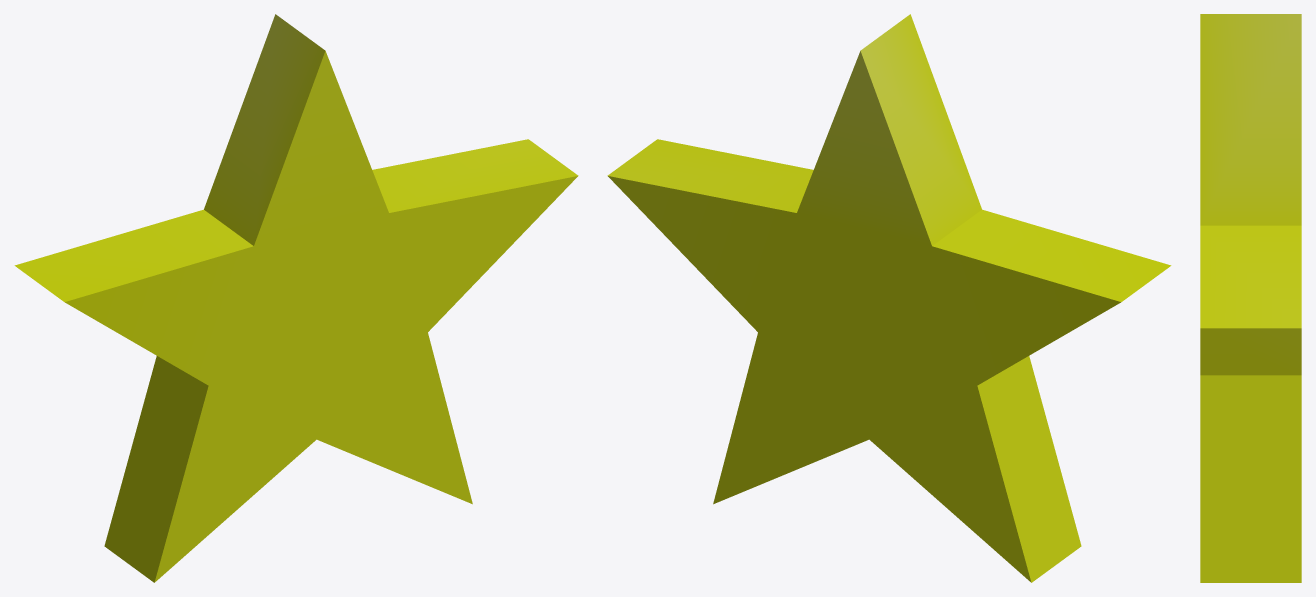
File: star.dae
3 views of the same model, side by side, from view 1: azimuth 30°, elevation 25°; view 2: azimuth 150°, elevation 25°; view 3: azimuth 270°, elevation 25° (orthographic).
Visible parts, largest first — view 1: Model; view 2: Model; view 3: Model.
Boxes of the visible parts, x1,y1,x2,y2 form: Model: [14, 14, 578, 582]; Model: [607, 14, 1171, 582]; Model: [1200, 14, 1301, 582].
Bounding box in the file's own units: 1 × 0.9118 × 0.1687.
